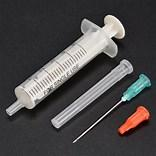Syringe: (4, 12, 154, 145)
